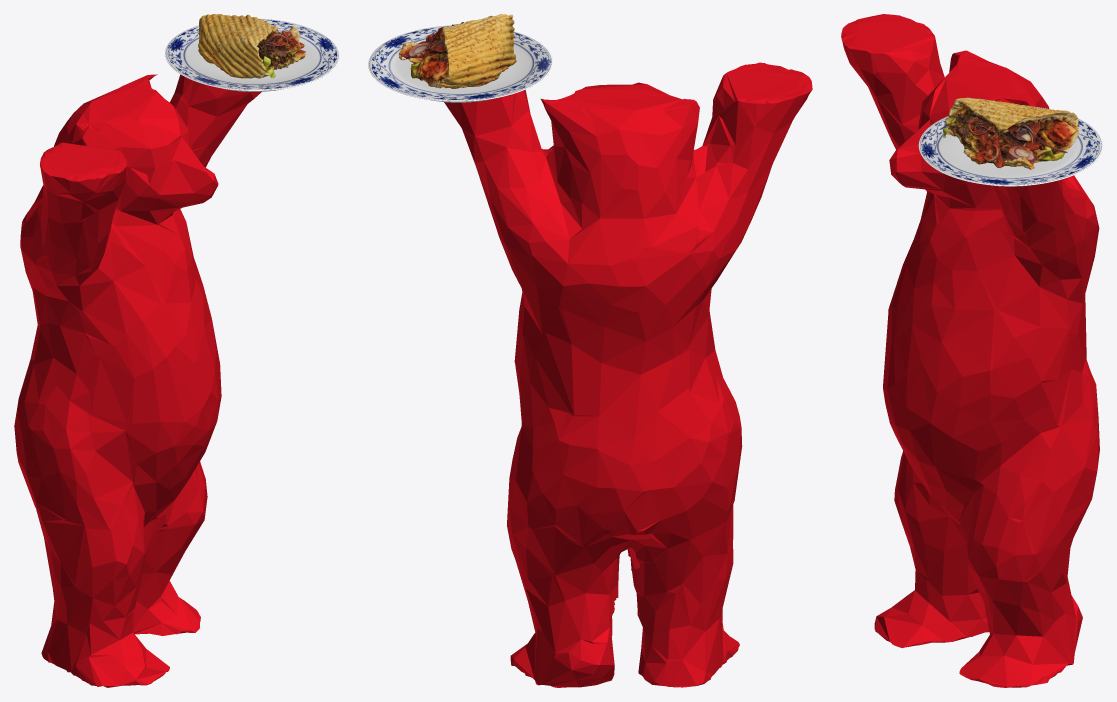
Rendered from berliner_bear.glb.
3 renders of one model, left to right at view 1: azimuth 30°, elevation 25°; view 2: azimuth 150°, elevation 25°; view 3: azimuth 270°, elevation 25°, orthographic. The views are drawn at different scales.
Parts seen in each view (by area): view 1: BerlinBuddyBear v6, plato_Cylinder, mesh-reduced_0.001, mesh-reduced_0.001_Material.002_0.001; view 2: BerlinBuddyBear v6, mesh-reduced_0.001, plato_Cylinder, mesh-reduced_0.001_Material.002_0.001; view 3: BerlinBuddyBear v6, mesh-reduced_0.001, plato_Cylinder, mesh-reduced_0.001_Material.002_0.001.
Boxes of the visible parts, left/top/right/bottom form: BerlinBuddyBear v6: left=14, top=74, right=261, bottom=687; plato_Cylinder: left=165, top=18, right=339, bottom=91; mesh-reduced_0.001: left=198, top=14, right=305, bottom=78; mesh-reduced_0.001_Material.002_0.001: left=199, top=25, right=301, bottom=78; BerlinBuddyBear v6: left=444, top=62, right=812, bottom=687; mesh-reduced_0.001: left=398, top=14, right=516, bottom=88; plato_Cylinder: left=368, top=25, right=552, bottom=102; mesh-reduced_0.001_Material.002_0.001: left=399, top=24, right=516, bottom=88; BerlinBuddyBear v6: left=841, top=14, right=1099, bottom=687; mesh-reduced_0.001: left=943, top=97, right=1078, bottom=169; plato_Cylinder: left=918, top=106, right=1102, bottom=186; mesh-reduced_0.001_Material.002_0.001: left=943, top=111, right=1078, bottom=166.
Bounding box in the file's own units: 58.97 × 94.28 × 36.76.
3 materials, 2 textured.
